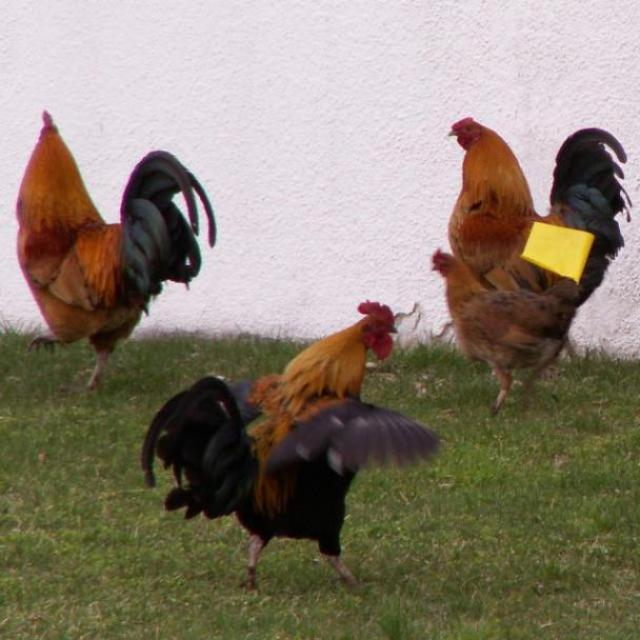Chicken: (139, 291, 450, 601), (18, 108, 218, 389), (444, 111, 637, 380), (428, 244, 583, 425)
